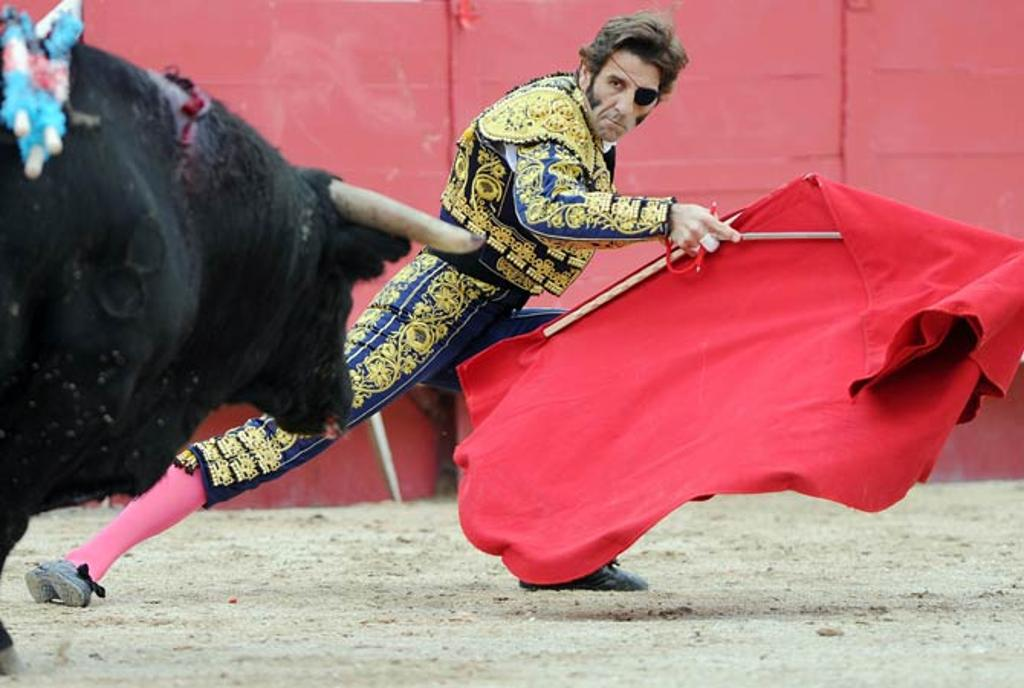face: (591, 49, 665, 141)
